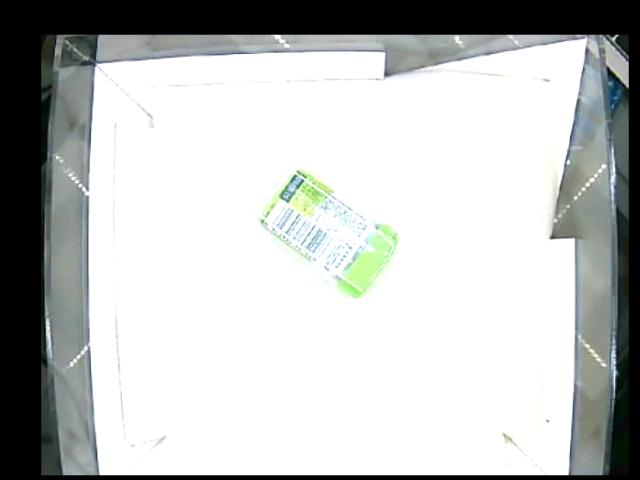Bottle: (253, 167, 398, 299)
